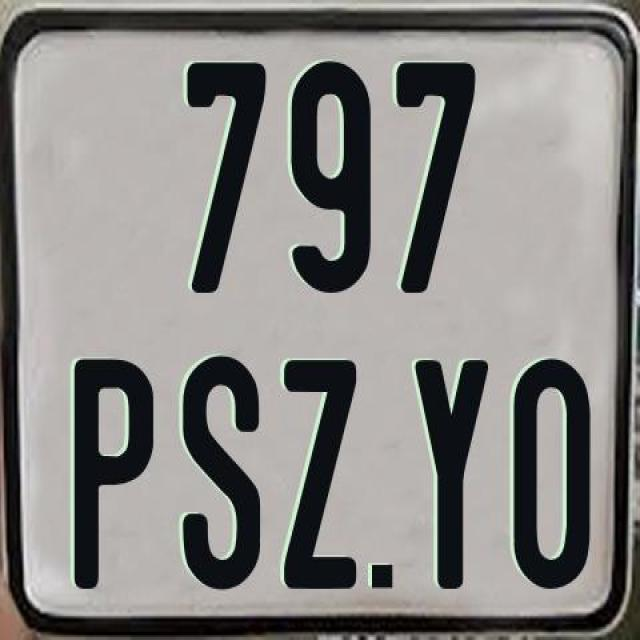0: (510, 354, 594, 586)
7: (187, 59, 273, 299), (392, 63, 478, 300)
9: (289, 59, 371, 291)
P: (75, 355, 157, 592)
S: (180, 352, 258, 592)
Y: (414, 360, 494, 598)
Z: (283, 360, 361, 598)
